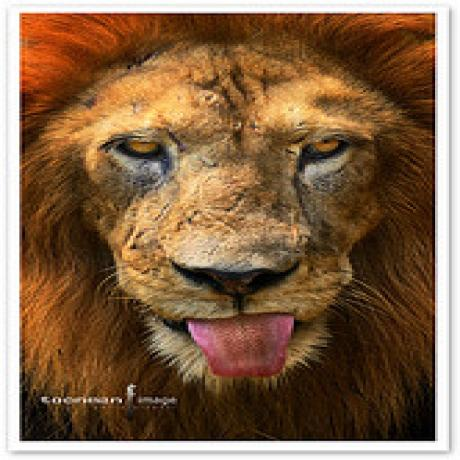Lion: (16, 16, 434, 444)
